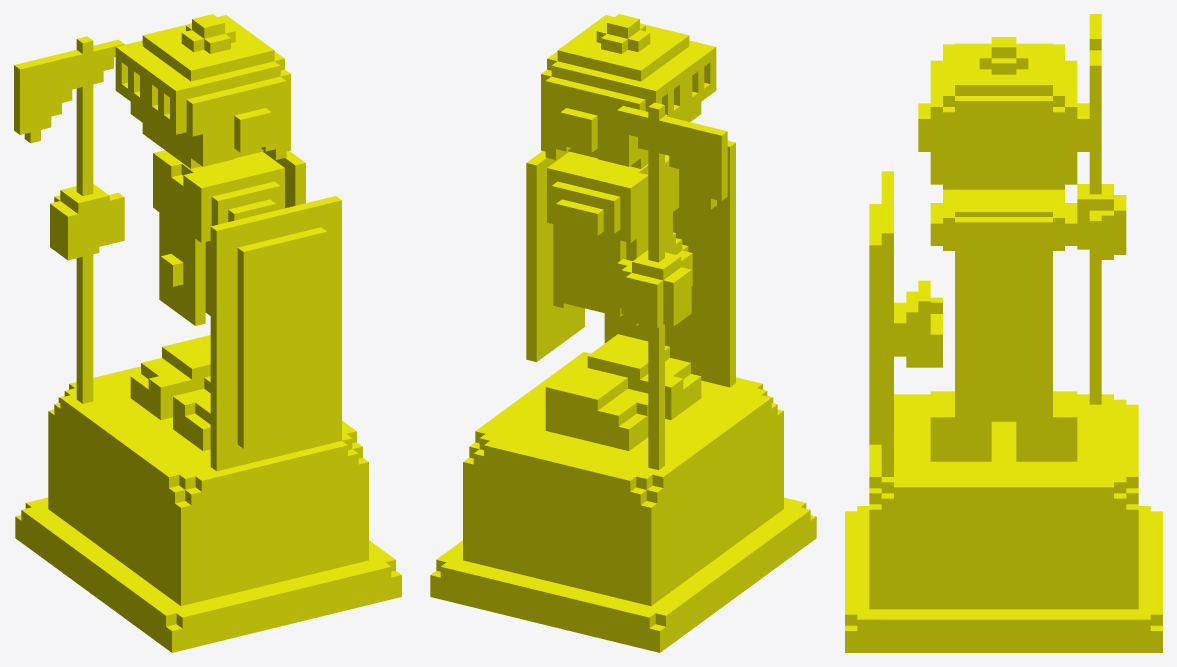
Rendered from voxel-cathedral-statue.glb.
3 views of the same model, side by side, from view 1: azimuth 30°, elevation 25°; view 2: azimuth 150°, elevation 25°; view 3: azimuth 270°, elevation 25° (orthographic).
Parts seen in each view (by area): view 1: VS_Cathedral_Environment_Statues_001.002; view 2: VS_Cathedral_Environment_Statues_001.002; view 3: VS_Cathedral_Environment_Statues_001.002.
Part boxes in pixels (x1,y1,x2,y2): VS_Cathedral_Environment_Statues_001.002: [14, 14, 401, 652]; VS_Cathedral_Environment_Statues_001.002: [430, 14, 816, 652]; VS_Cathedral_Environment_Statues_001.002: [845, 14, 1162, 652].
Bounding box in the file's own units: 2.5 × 5 × 2.6.
